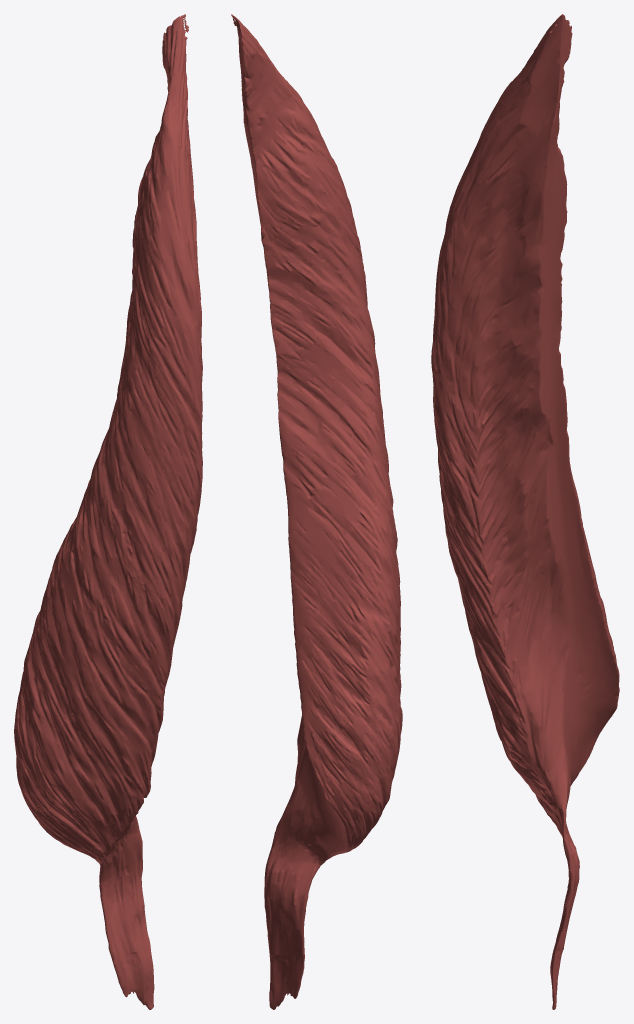
Rendered from FMA38933.glb.
The picture shows the model from 3 angles, left to right: view 1: azimuth 30°, elevation 25°; view 2: azimuth 150°, elevation 25°; view 3: azimuth 270°, elevation 25°; orthographic projection. The views are drawn at different scales.
Visible parts, largest first — view 1: FMA38933; view 2: FMA38933; view 3: FMA38933.
Boxes of the visible parts, x1,y1,x2,y2 form: FMA38933: (14, 14, 202, 1009); FMA38933: (231, 14, 402, 1009); FMA38933: (431, 14, 619, 1009).
Bounding box in the file's own units: 0.0695 × 0.3945 × 0.0663.
